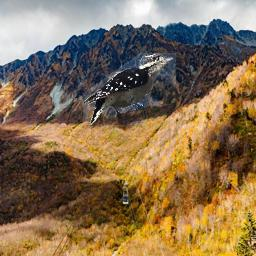Woodpecker: (83, 53, 176, 125)
